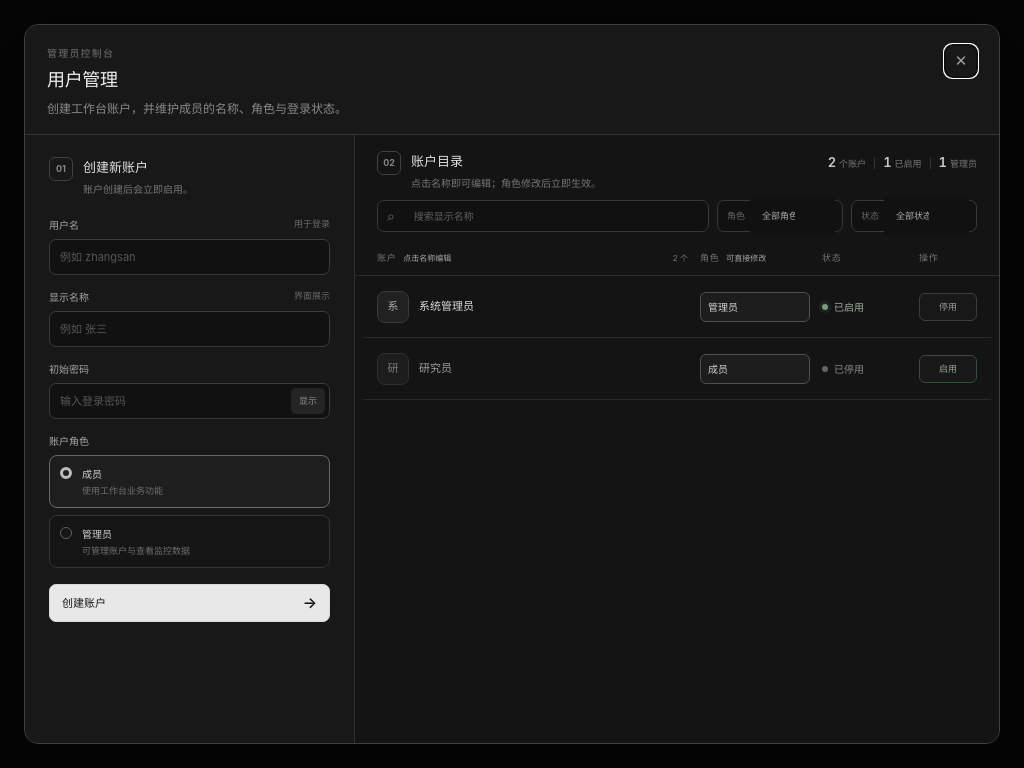
Test: UserManagementPanel › shows the real account capabilities and filters the directory
expect the text "系统管理员" is shown: met, box [419,298,474,316]
expect the text "研究员" is shown: met, box [419,360,452,378]
Type "系统" into the field named "搜索用户" at (550, 216), box [402,200,699,232]
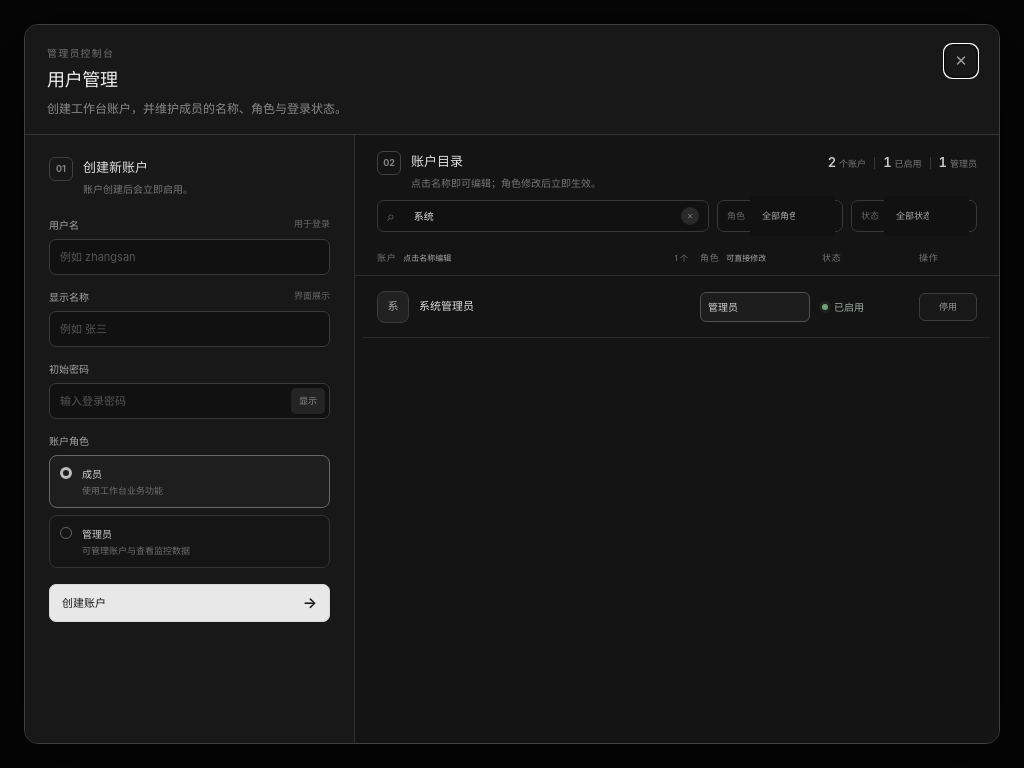
expect the text "系统管理员" is shown: met, box [419,298,474,316]
expect the button "研究员" is gone: met
Select "成员" in the dropdown named "按角色筛选" at (792, 216), box [750,196,835,236]
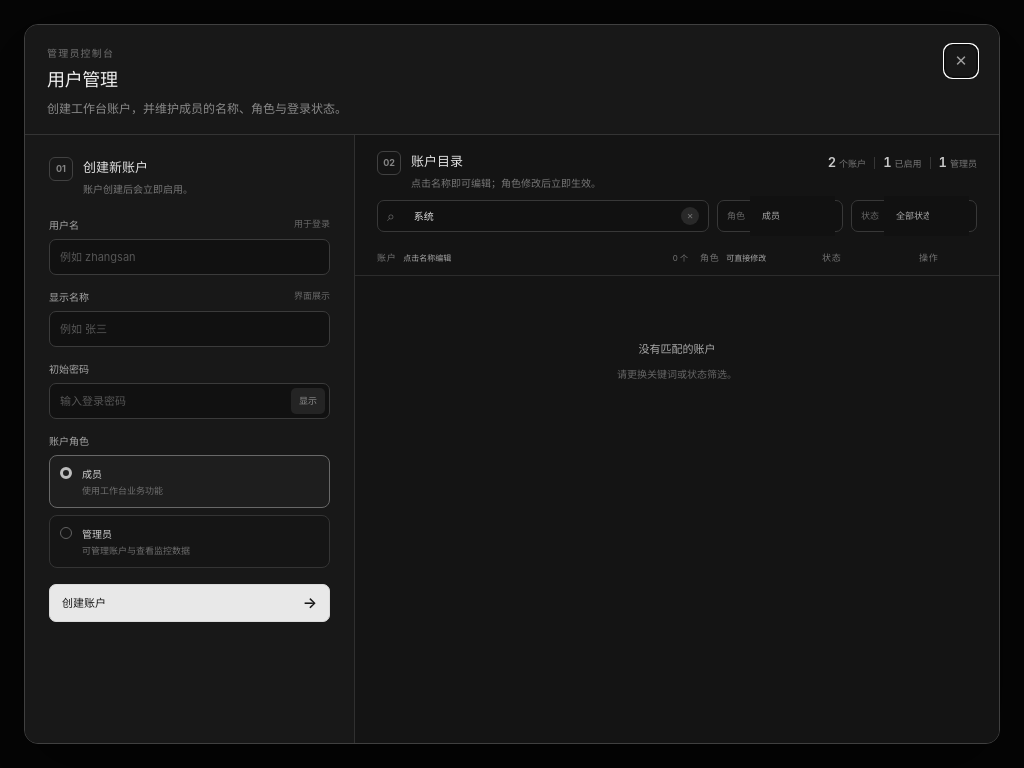
expect the button "系统管理员" is gone: met
Clear the field named "搜索用户" at (538, 216), box [402,200,674,232]
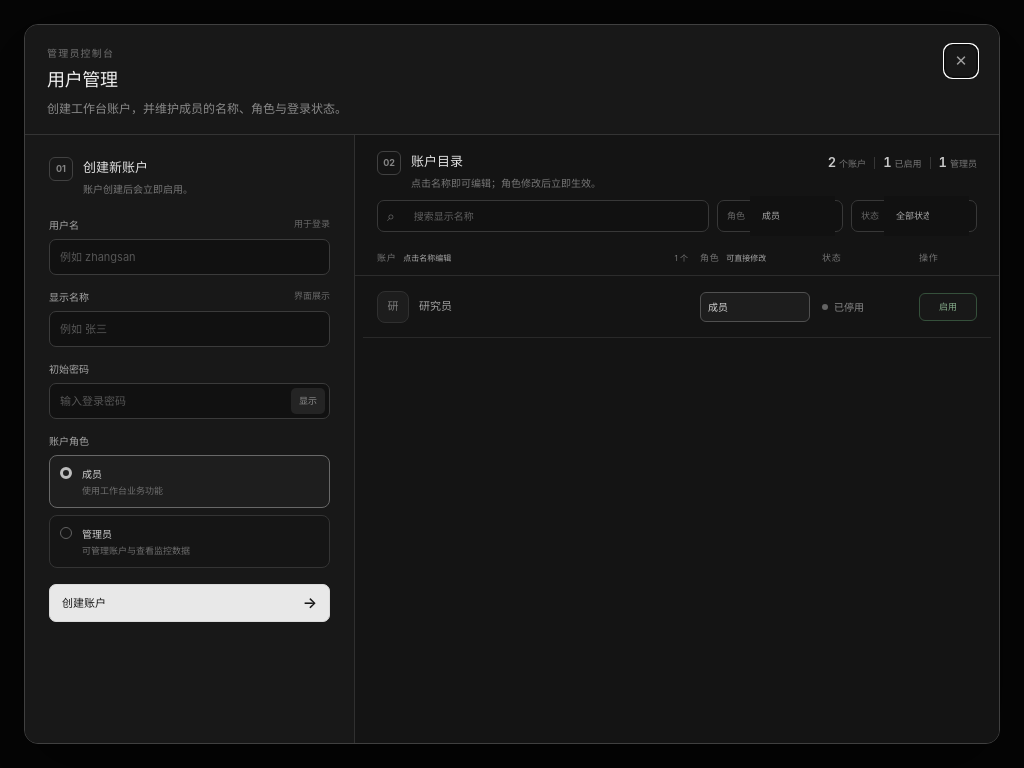
expect the text "研究员" is shown: met, box [419,298,452,316]
Select "已启用" in the dropdown named "按账号状态筛选" at (926, 216), box [884,196,969,236]
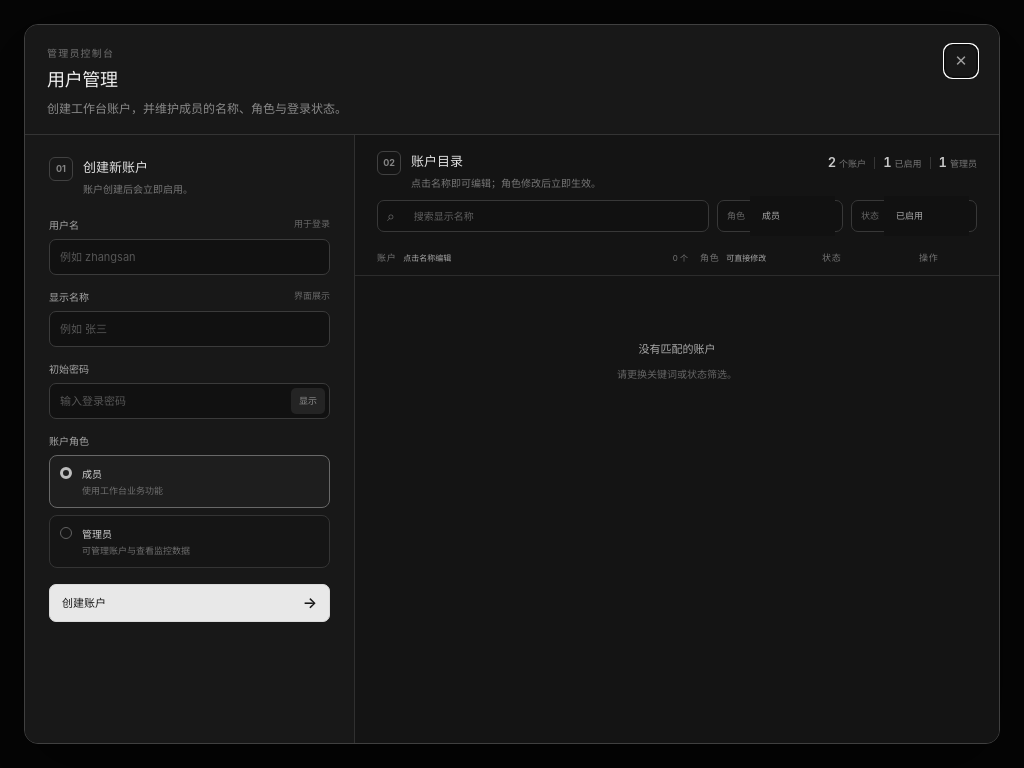
expect the button "研究员" is gone: met
